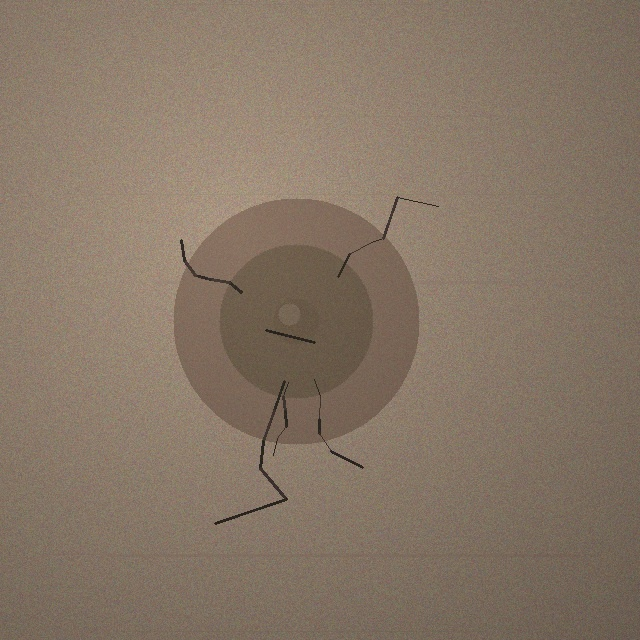crack: (173, 198, 419, 444)
